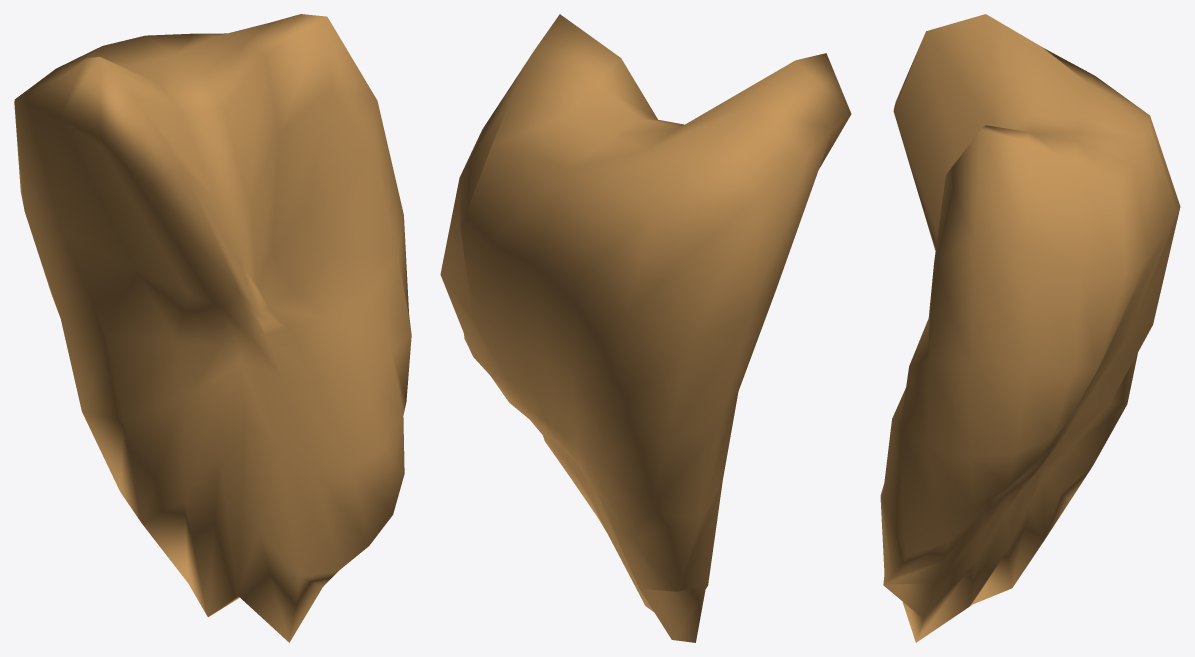
Rendered from coxa_T2_left_leg.obj.
3 renders of one model, left to right at view 1: azimuth 30°, elevation 25°; view 2: azimuth 150°, elevation 25°; view 3: azimuth 270°, elevation 25°, orthographic. The views are drawn at different scales.
Bounding box in the file's own units: 0.0159 × 0.0261 × 0.0127.
